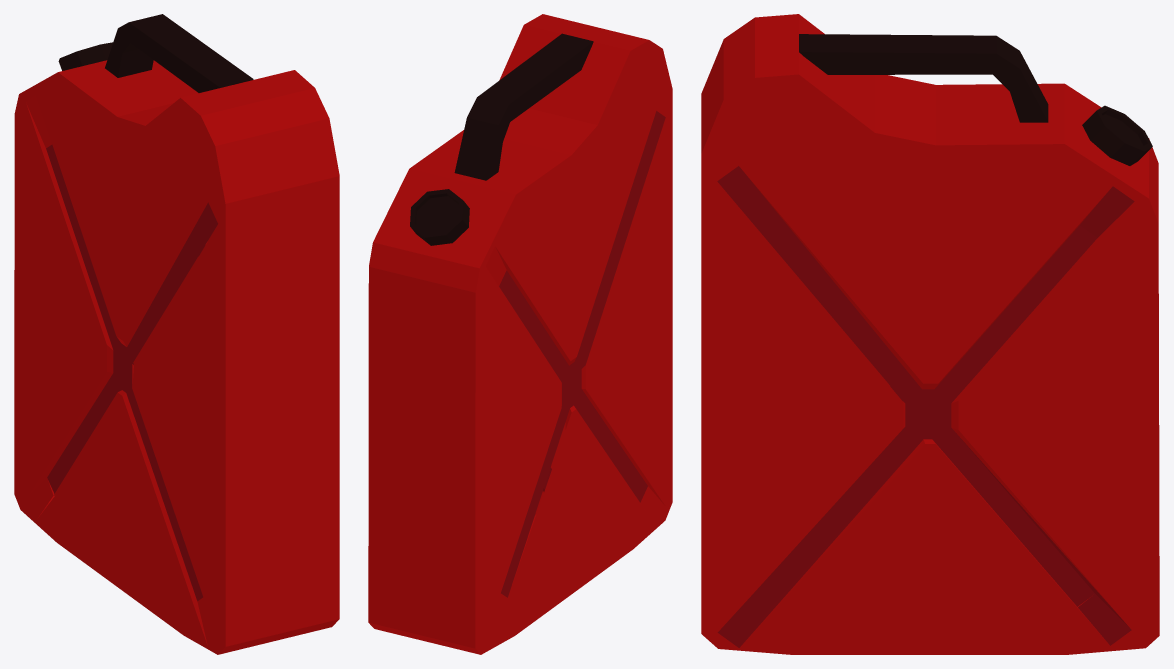
Rendered from Petrol.glb.
3 renders of one model, left to right at view 1: azimuth 30°, elevation 25°; view 2: azimuth 150°, elevation 25°; view 3: azimuth 270°, elevation 25°, orthographic. The views are drawn at different scales.
Visible parts, largest first — view 1: petrol; view 2: petrol; view 3: petrol.
Boxes of the visible parts, box(x1,y1,x2,y2) form: petrol: box(14, 14, 339, 654); petrol: box(368, 14, 672, 654); petrol: box(701, 14, 1159, 654).
Size of the model in its own units: 0.2936 by 1.32 by 0.9402.
Materials: 1 (1 with a texture image).
